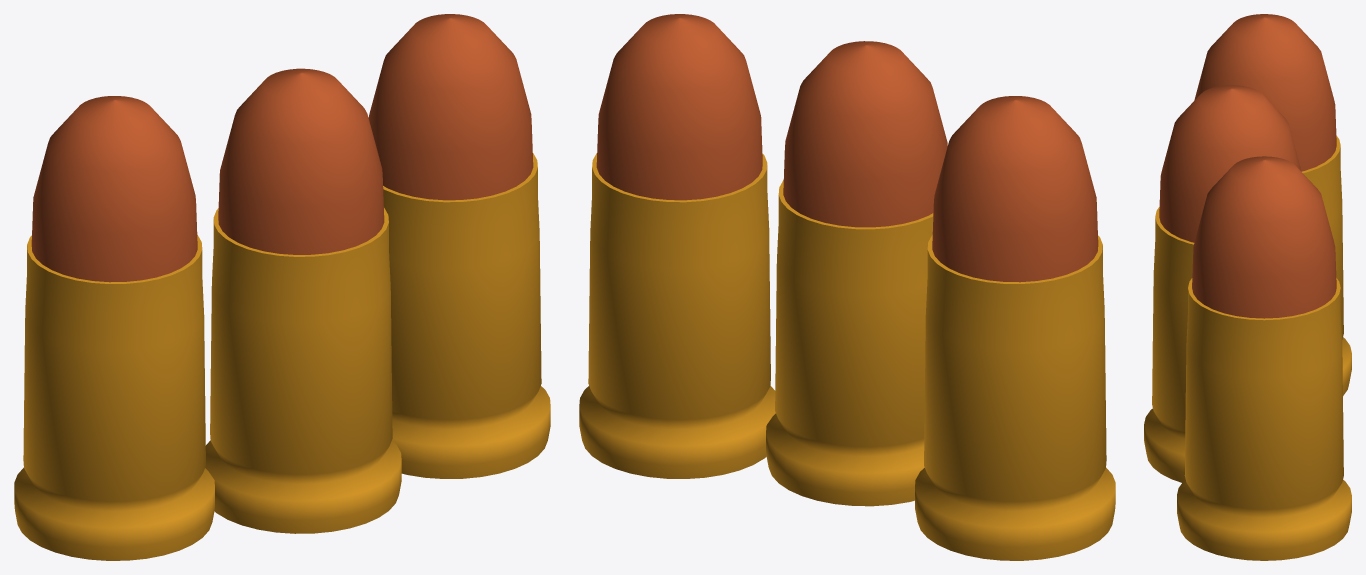
Rendered from ammo-smg.glb.
3 views of the same model, side by side, from view 1: azimuth 30°, elevation 25°; view 2: azimuth 150°, elevation 25°; view 3: azimuth 270°, elevation 25° (orthographic). The views are drawn at different scales.
Visible parts, largest first — view 1: ammo-smg-surfaces; view 2: ammo-smg-surfaces; view 3: ammo-smg-surfaces.
Boxes of the visible parts, x1,y1,x2,y2 form: ammo-smg-surfaces: (14,14,550,560); ammo-smg-surfaces: (579,14,1115,560); ammo-smg-surfaces: (1144,14,1351,560).
Bounding box in the file's own units: 0.547 × 0.431 × 0.222.
Materials: 3 (3 with a texture image).
